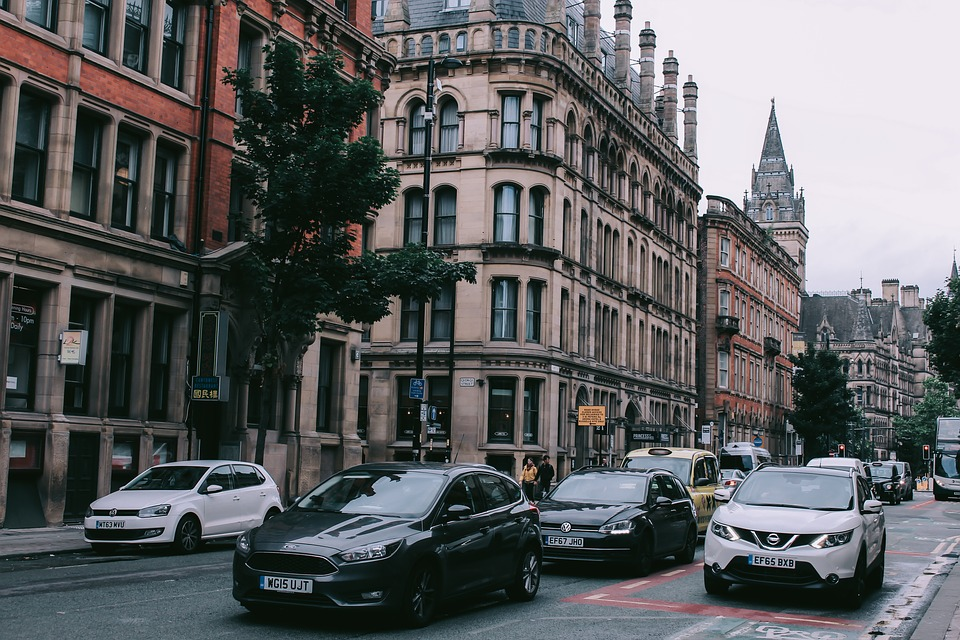car: (231, 462, 542, 625), (703, 462, 886, 608), (83, 460, 279, 551), (535, 469, 698, 572)
